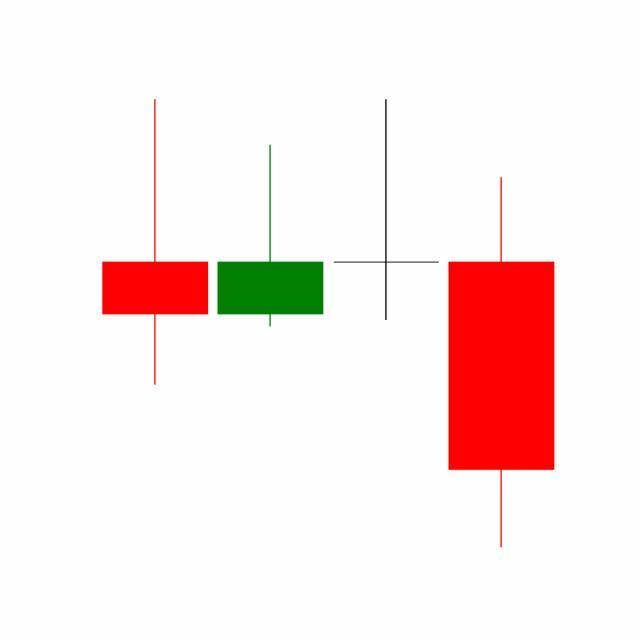Spinning Top: (329, 97, 445, 323)
